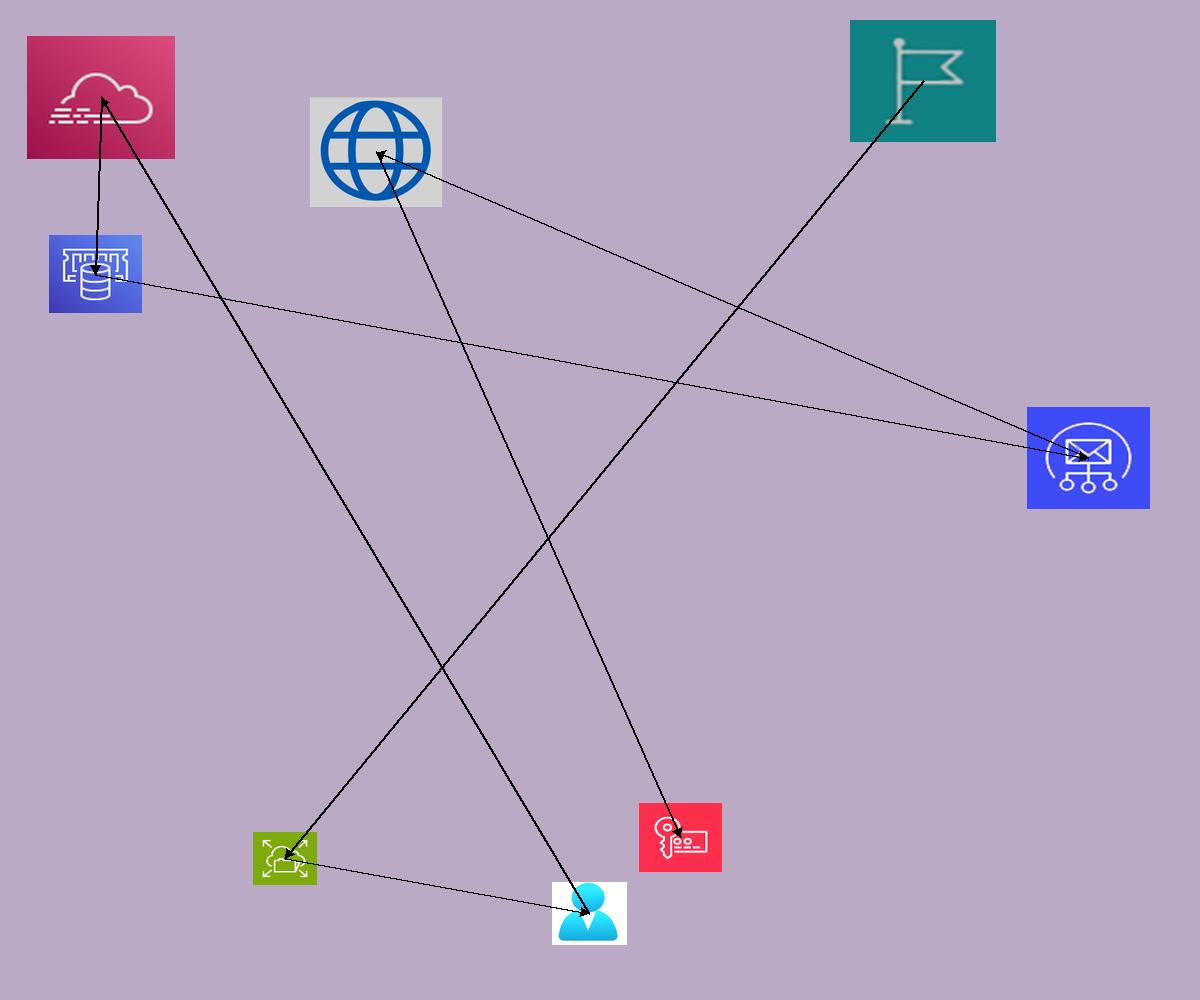AWS-CloudTrail: (27, 36, 175, 159)
AWS-EFS: (253, 832, 317, 885)
AWS-ElastiCache: (49, 235, 142, 313)
AWS-Key-Management-Service: (639, 803, 722, 872)
AWS-Region: (850, 20, 996, 142)
AWS-Simple-Email-Service: (1027, 407, 1150, 509)
Azure_http: (310, 97, 442, 207)
Azure_users: (552, 882, 627, 945)
